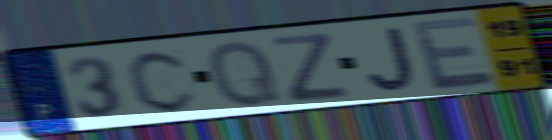3: (63, 53, 124, 120)
C: (124, 47, 200, 115)
E: (408, 13, 499, 93)
J: (364, 24, 418, 93)
Q: (205, 37, 285, 109)
Z: (270, 31, 351, 104)
